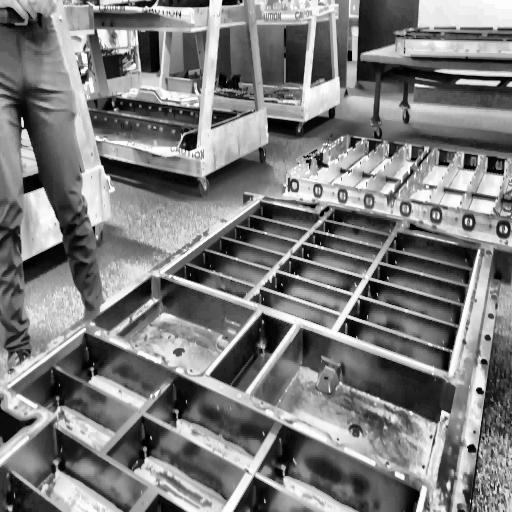b_casing: (0, 192, 495, 512)
